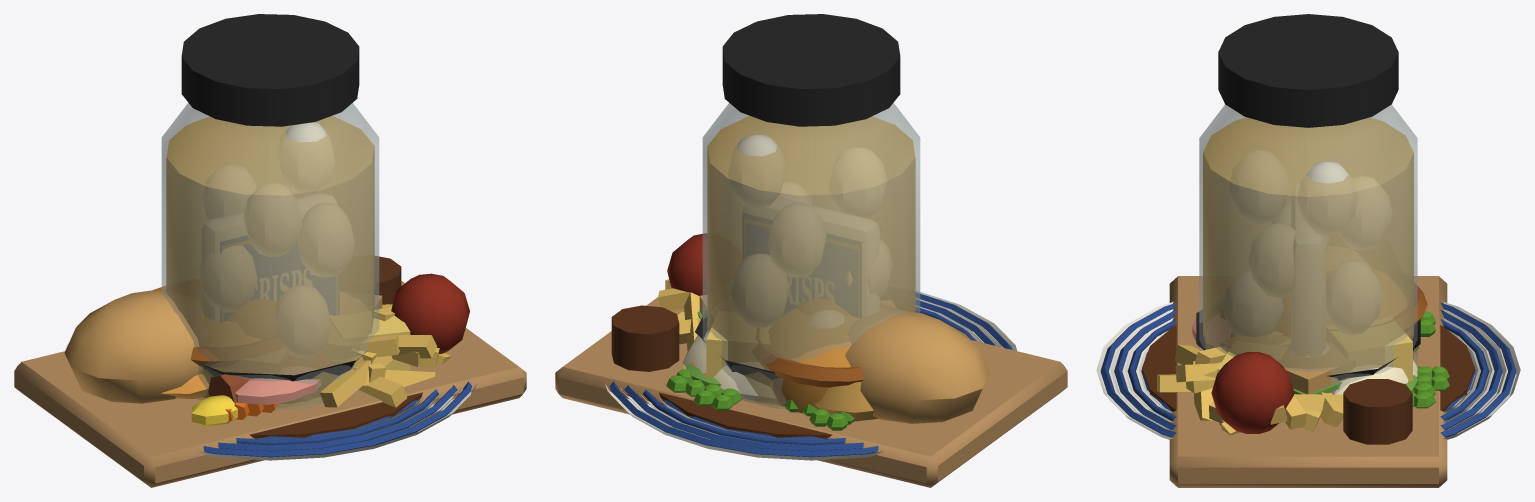
File: food.glb
The picture shows the model from 3 angles, left to right: view 1: azimuth 30°, elevation 25°; view 2: azimuth 150°, elevation 25°; view 3: azimuth 270°, elevation 25°; orthographic projection.
Visible parts, largest first — view 1: snack_pickled_eggs, food_ploughmans, food_fish_chips, food_pie_chips, snack_crisps, food_roast, food_sandwich, food_bangers_mash, plate_empty, plate_chips_basket, food_scotch_egg; view 2: snack_pickled_eggs, food_ploughmans, food_pie_chips, snack_crisps, food_fish_chips, food_bangers_mash, food_roast, plate_empty, food_sandwich, plate_chips_basket, food_scotch_egg; view 3: snack_pickled_eggs, food_ploughmans, food_pie_chips, food_fish_chips, snack_crisps, food_sandwich, food_roast, plate_empty, food_bangers_mash, plate_chips_basket.
Boxes of the visible parts, x1,y1,x2,y2 form: snack_pickled_eggs: (161, 14, 379, 410); food_ploughmans: (14, 256, 526, 487); food_fish_chips: (64, 334, 476, 460); food_pie_chips: (153, 280, 461, 451); snack_crisps: (202, 194, 338, 321); food_roast: (225, 392, 422, 438); food_sandwich: (203, 291, 422, 439); food_bangers_mash: (206, 353, 388, 427); plate_empty: (233, 389, 442, 445); plate_chips_basket: (200, 326, 366, 403); food_scotch_egg: (228, 299, 275, 338); snack_pickled_eggs: (702, 14, 920, 408); food_ploughmans: (555, 233, 1067, 487); food_pie_chips: (620, 279, 1001, 451); snack_crisps: (743, 198, 879, 318); food_fish_chips: (605, 291, 1017, 460); food_bangers_mash: (682, 330, 854, 430); food_roast: (659, 381, 877, 438); plate_empty: (639, 305, 982, 445); food_sandwich: (659, 295, 895, 439); plate_chips_basket: (695, 310, 918, 385); food_scotch_egg: (686, 299, 849, 386); snack_pickled_eggs: (1199, 14, 1417, 394); food_ploughmans: (1169, 246, 1447, 487); food_pie_chips: (1110, 269, 1506, 432); food_fish_chips: (1096, 301, 1520, 439); snack_crisps: (1291, 184, 1325, 355); food_sandwich: (1139, 307, 1477, 412); food_roast: (1142, 325, 1474, 411); plate_empty: (1124, 318, 1492, 422); food_bangers_mash: (1156, 311, 1460, 397); plate_chips_basket: (1196, 310, 1420, 380).
Size of the model in its own units: 0.32 by 0.275 by 0.306.
